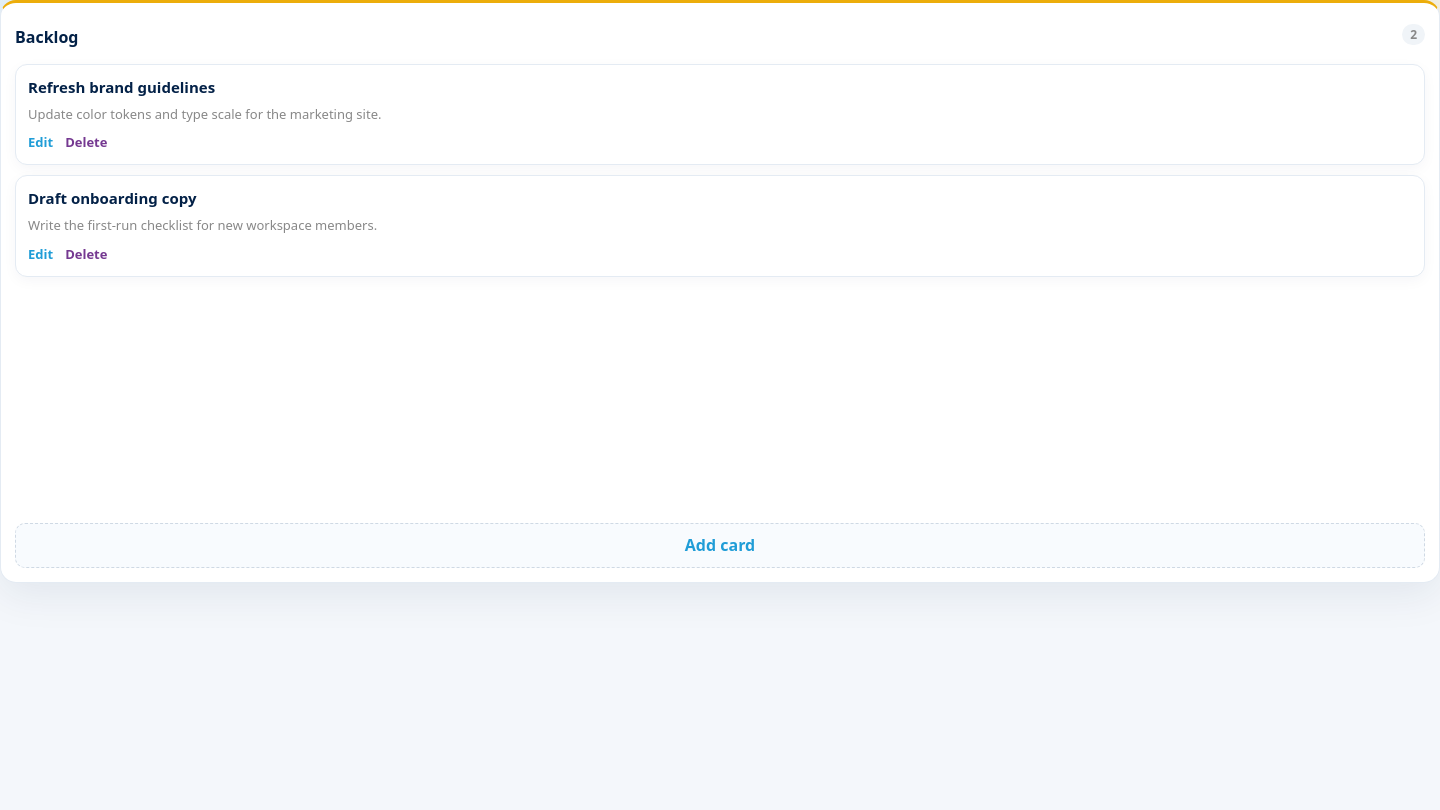
Test case: ColumnView › renames a column on Enter
The width and height of the screenshot is (1440, 810).
Click the button with test id "column-title-col-backlog" at (47, 38), box [15,26,78,49]
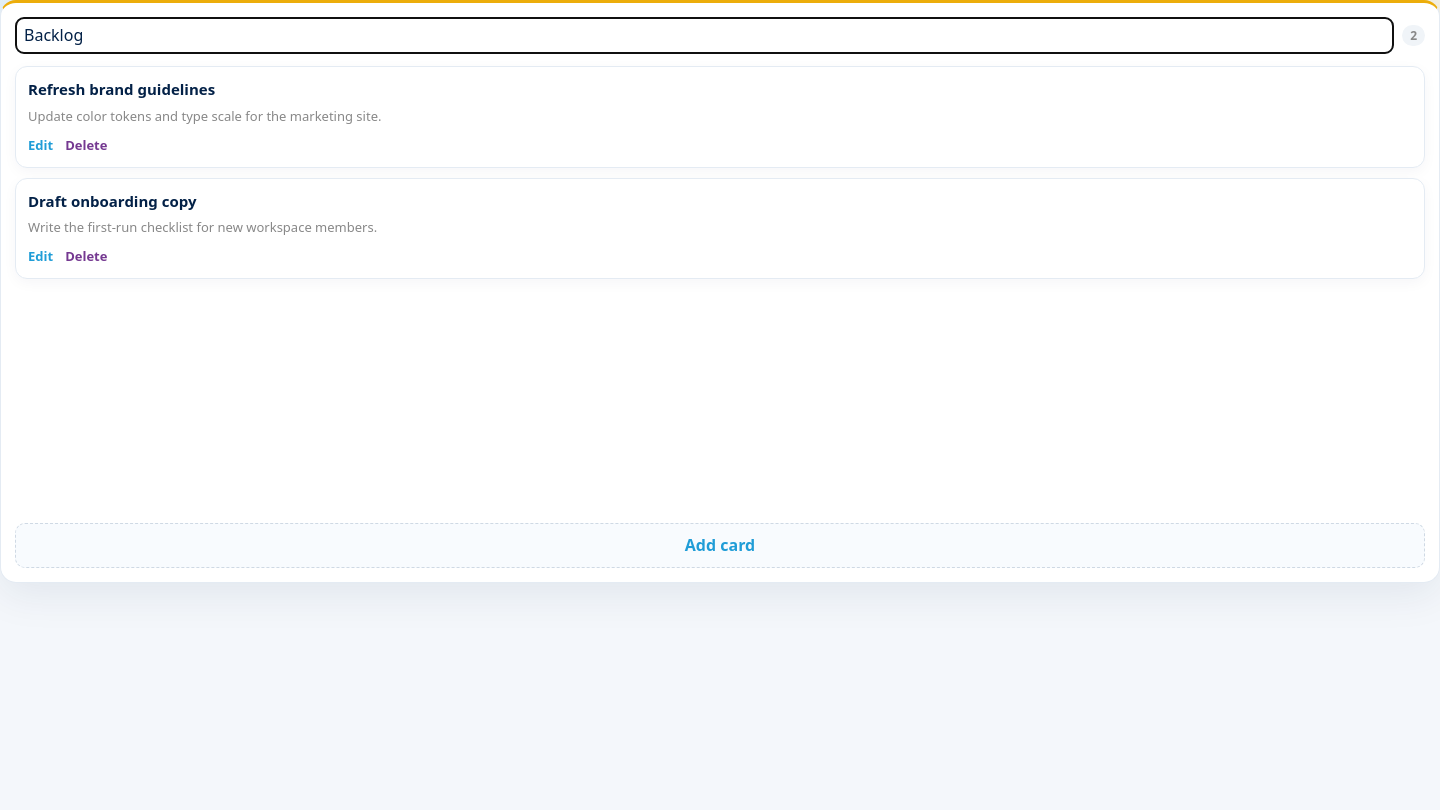
Replace the text in the field with test id "column-title-input-col-backlog" with "Icebox" at (705, 36), box [15,17,1394,54]
Then press Enter
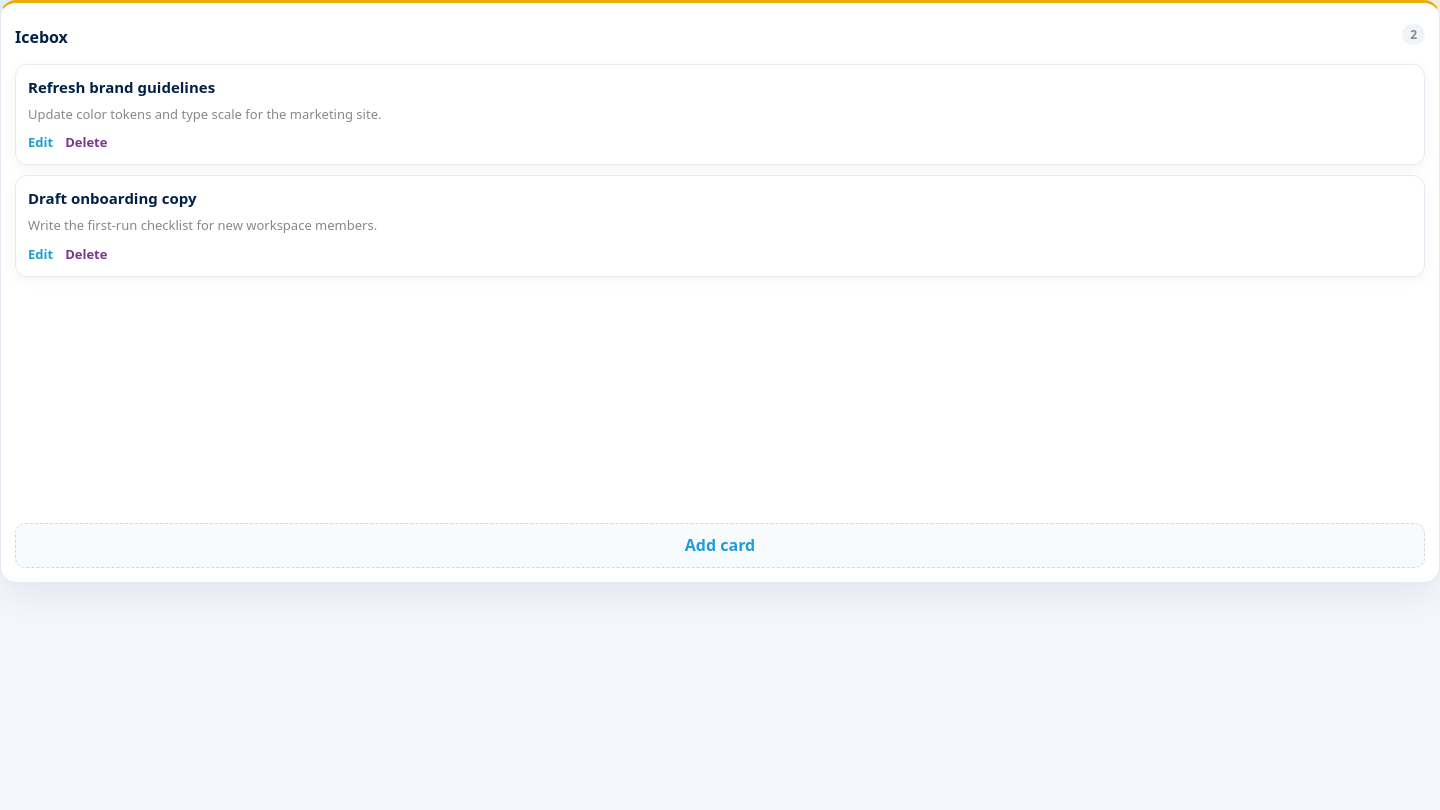
Expected: the button with test id "column-title-col-backlog" reads "Icebox", [15,26,68,49]
